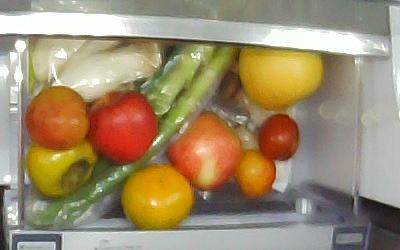apple: (167, 109, 241, 190), (84, 93, 160, 163)
grapefruit: (237, 46, 323, 109)
persimmon: (121, 166, 194, 230), (27, 136, 98, 197)
prune: (25, 86, 89, 150), (232, 149, 276, 197), (259, 113, 300, 159)
